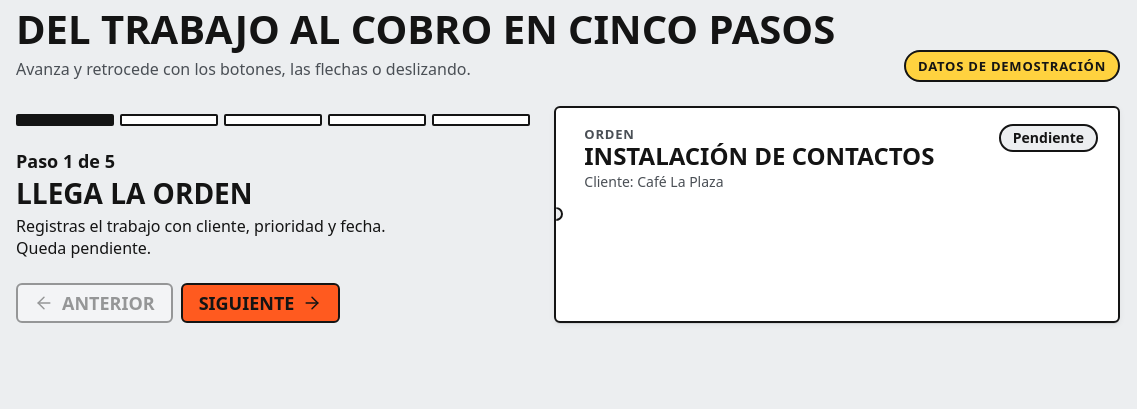
FlowDemo › los puntos del avance saltan directo a un paso
The width and height of the screenshot is (1137, 409).
Click the button named "Se completa" at (377, 120), box [328,114,426,126]
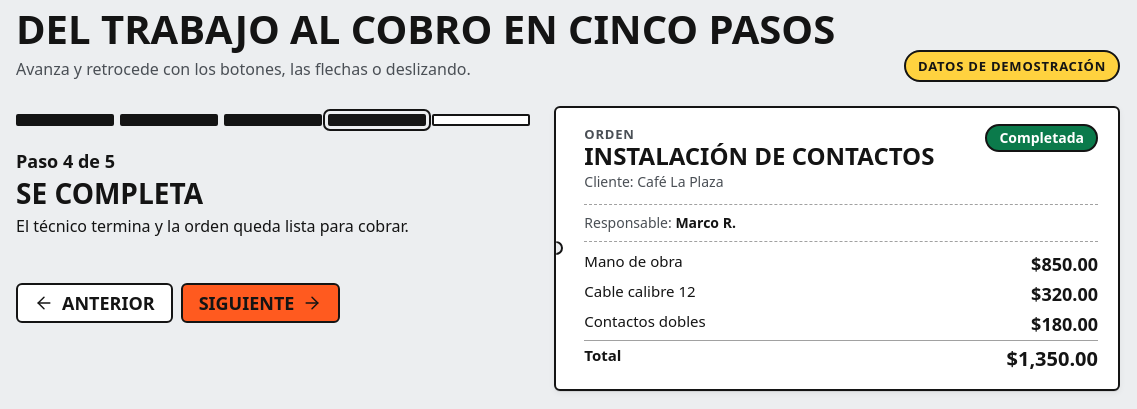
Expected: the text "Paso 4 de 5" is shown, [16,149,115,173]
